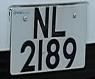1: (36, 39, 45, 73)
2: (18, 39, 38, 73)
8: (44, 36, 62, 71)
9: (61, 36, 79, 70)
L: (50, 4, 68, 40)
N: (30, 5, 53, 40)
